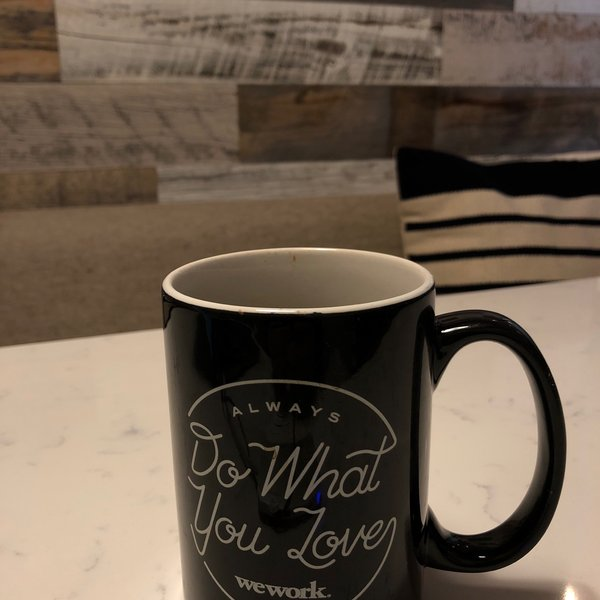wework: (229, 571, 328, 600)
